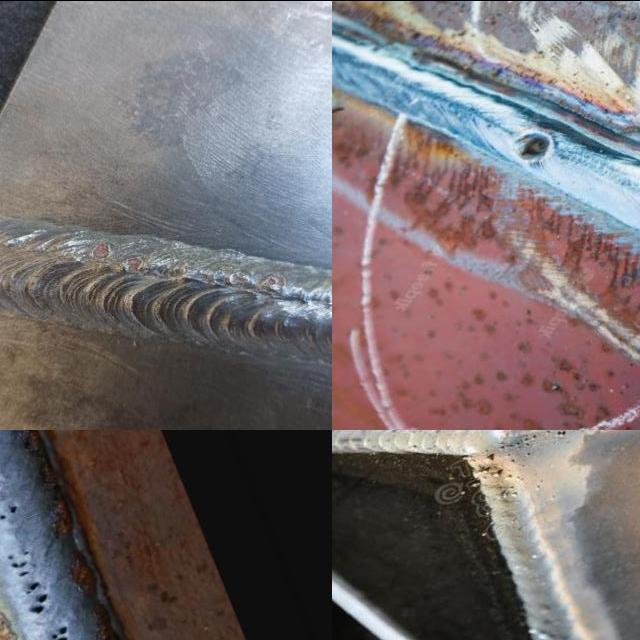defect: (473, 430, 545, 506), (516, 128, 555, 162), (23, 578, 52, 619), (5, 548, 31, 578), (33, 621, 72, 640), (115, 253, 147, 274), (86, 242, 114, 263), (217, 269, 248, 287), (263, 267, 284, 289), (540, 429, 570, 443), (0, 502, 18, 522), (1, 234, 22, 250)
